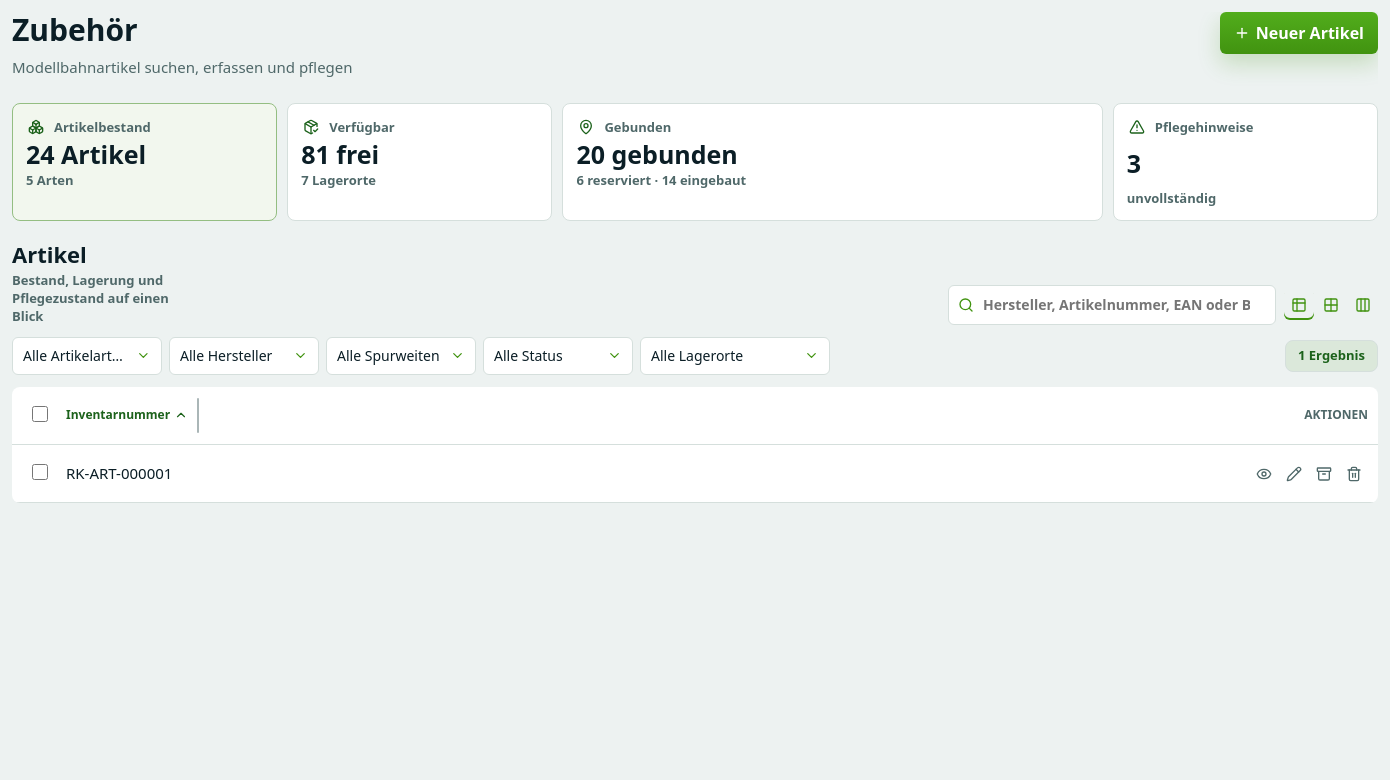
Scenario: AccessoriesView › restores and persists the default table columns
Expected: the table is shown, [12,386,1378,503]
Click the button named "Tabellenspalten auswählen": [1363, 304] box [1348,290,1378,320]
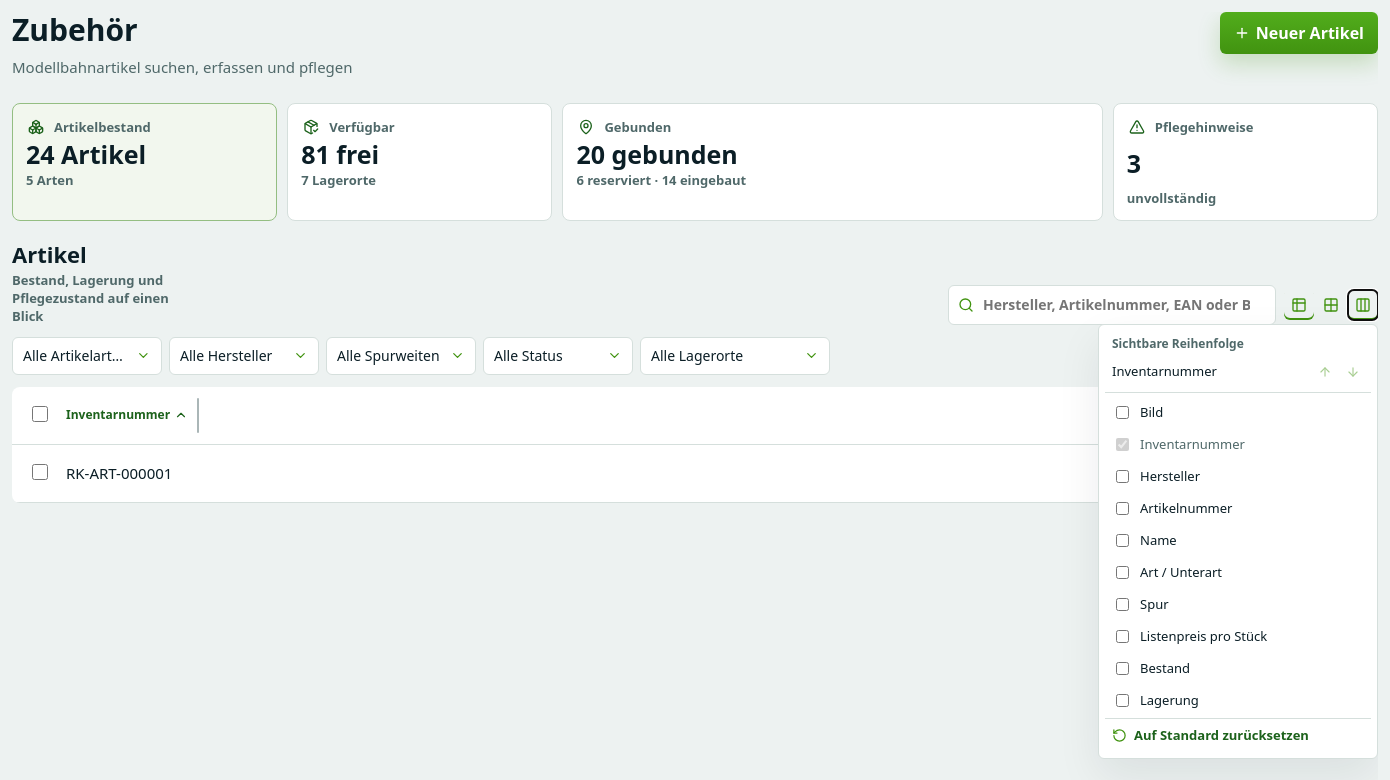
Click the button "Auf Standard zurücksetzen": [1238, 735] box [1105,718,1371,752]
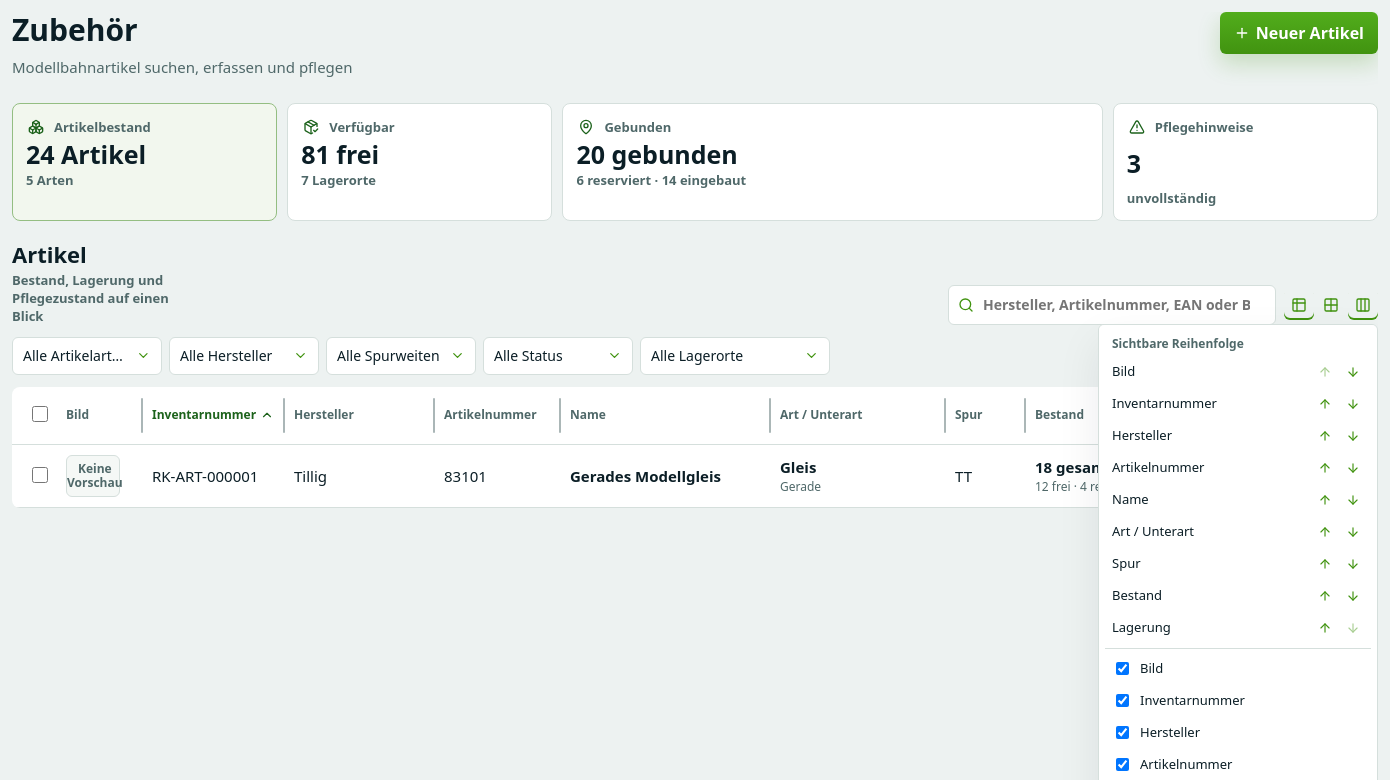
Now the column heading "Hersteller" is shown, box [284,386,434,444]
